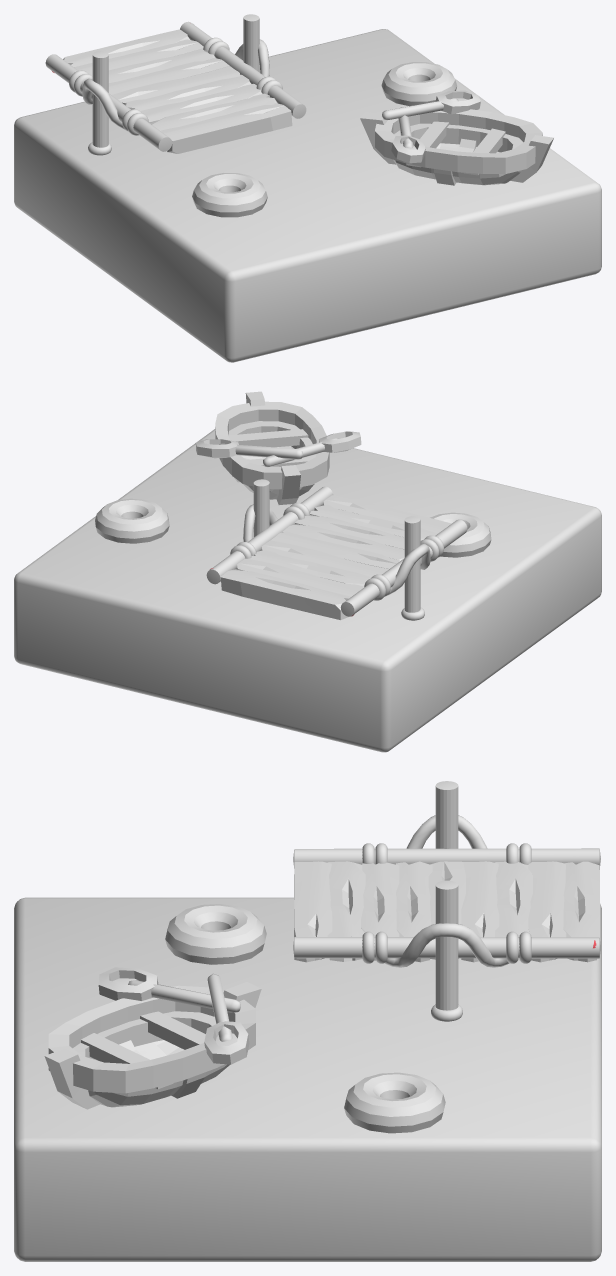
Rendered from Nivel 2,2 (Playa).fbx.
3 renders of one model, top to bottom at view 1: azimuth 30°, elevation 25°; view 2: azimuth 150°, elevation 25°; view 3: azimuth 270°, elevation 25°, orthographic. The views are drawn at different scales.
Visible parts, largest first — view 1: 2.2; view 2: 2.2; view 3: 2.2.
Part boxes in pixels (box(x1,y1,x2,y2)): 2.2: box(14, 14, 601, 362); 2.2: box(14, 391, 601, 752); 2.2: box(14, 781, 601, 1261).
Bounding box in the file's own units: 1410 × 672 × 1410.
